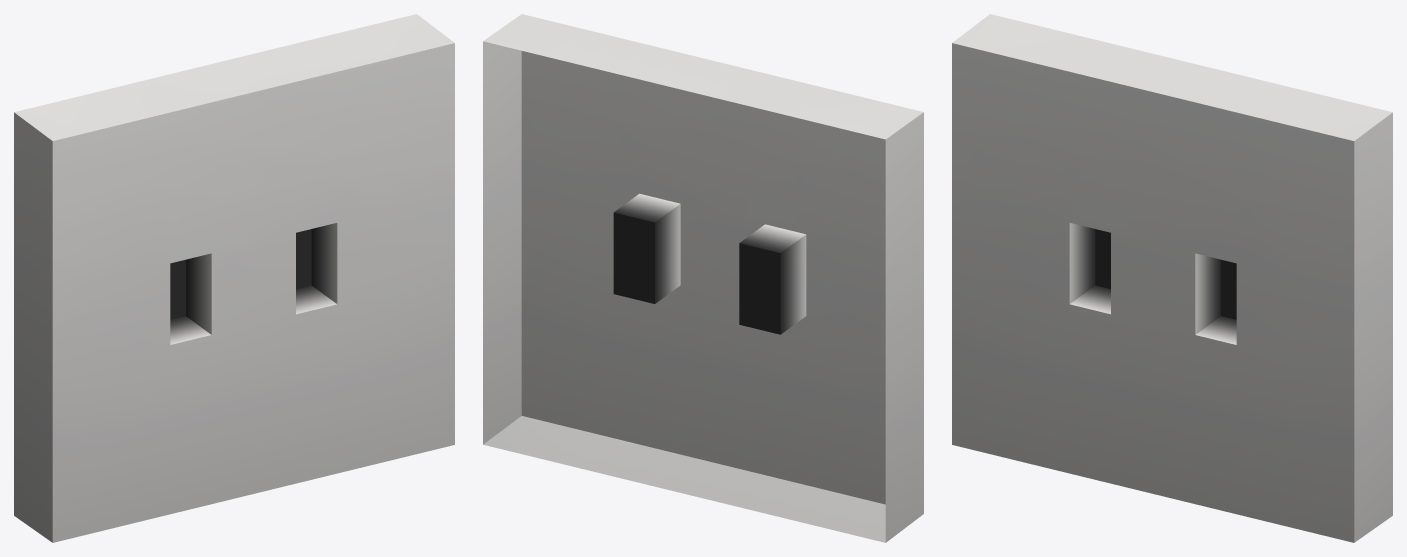
The model's file is Wall_ElectricSocket.fbx.
3 renders of one model, left to right at view 1: azimuth 30°, elevation 25°; view 2: azimuth 150°, elevation 25°; view 3: azimuth 330°, elevation 25°, orthographic.
Parts seen in each view (by area): view 1: Wall_ElectricSocket; view 2: Wall_ElectricSocket; view 3: Wall_ElectricSocket.
Boxes of the visible parts, left/top/right/bottom form: Wall_ElectricSocket: left=14, top=14, right=454, bottom=542; Wall_ElectricSocket: left=483, top=14, right=923, bottom=542; Wall_ElectricSocket: left=952, top=14, right=1392, bottom=542.
Bounding box in the file's own units: 14.53 × 13.91 × 2.4.
